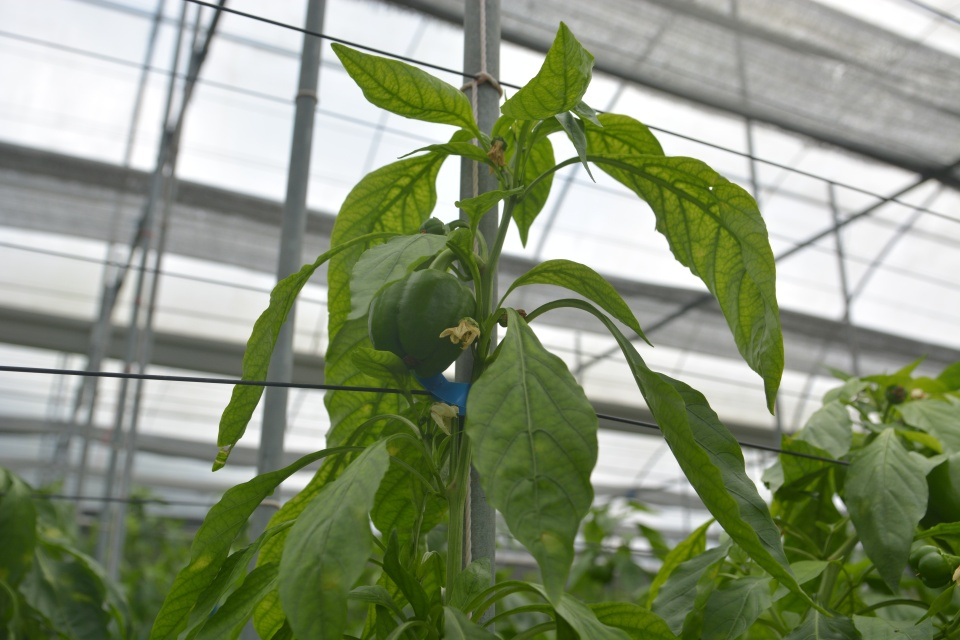flower: (438, 318, 481, 350)
fruit: (366, 267, 477, 380)
immature: (907, 542, 953, 589)
